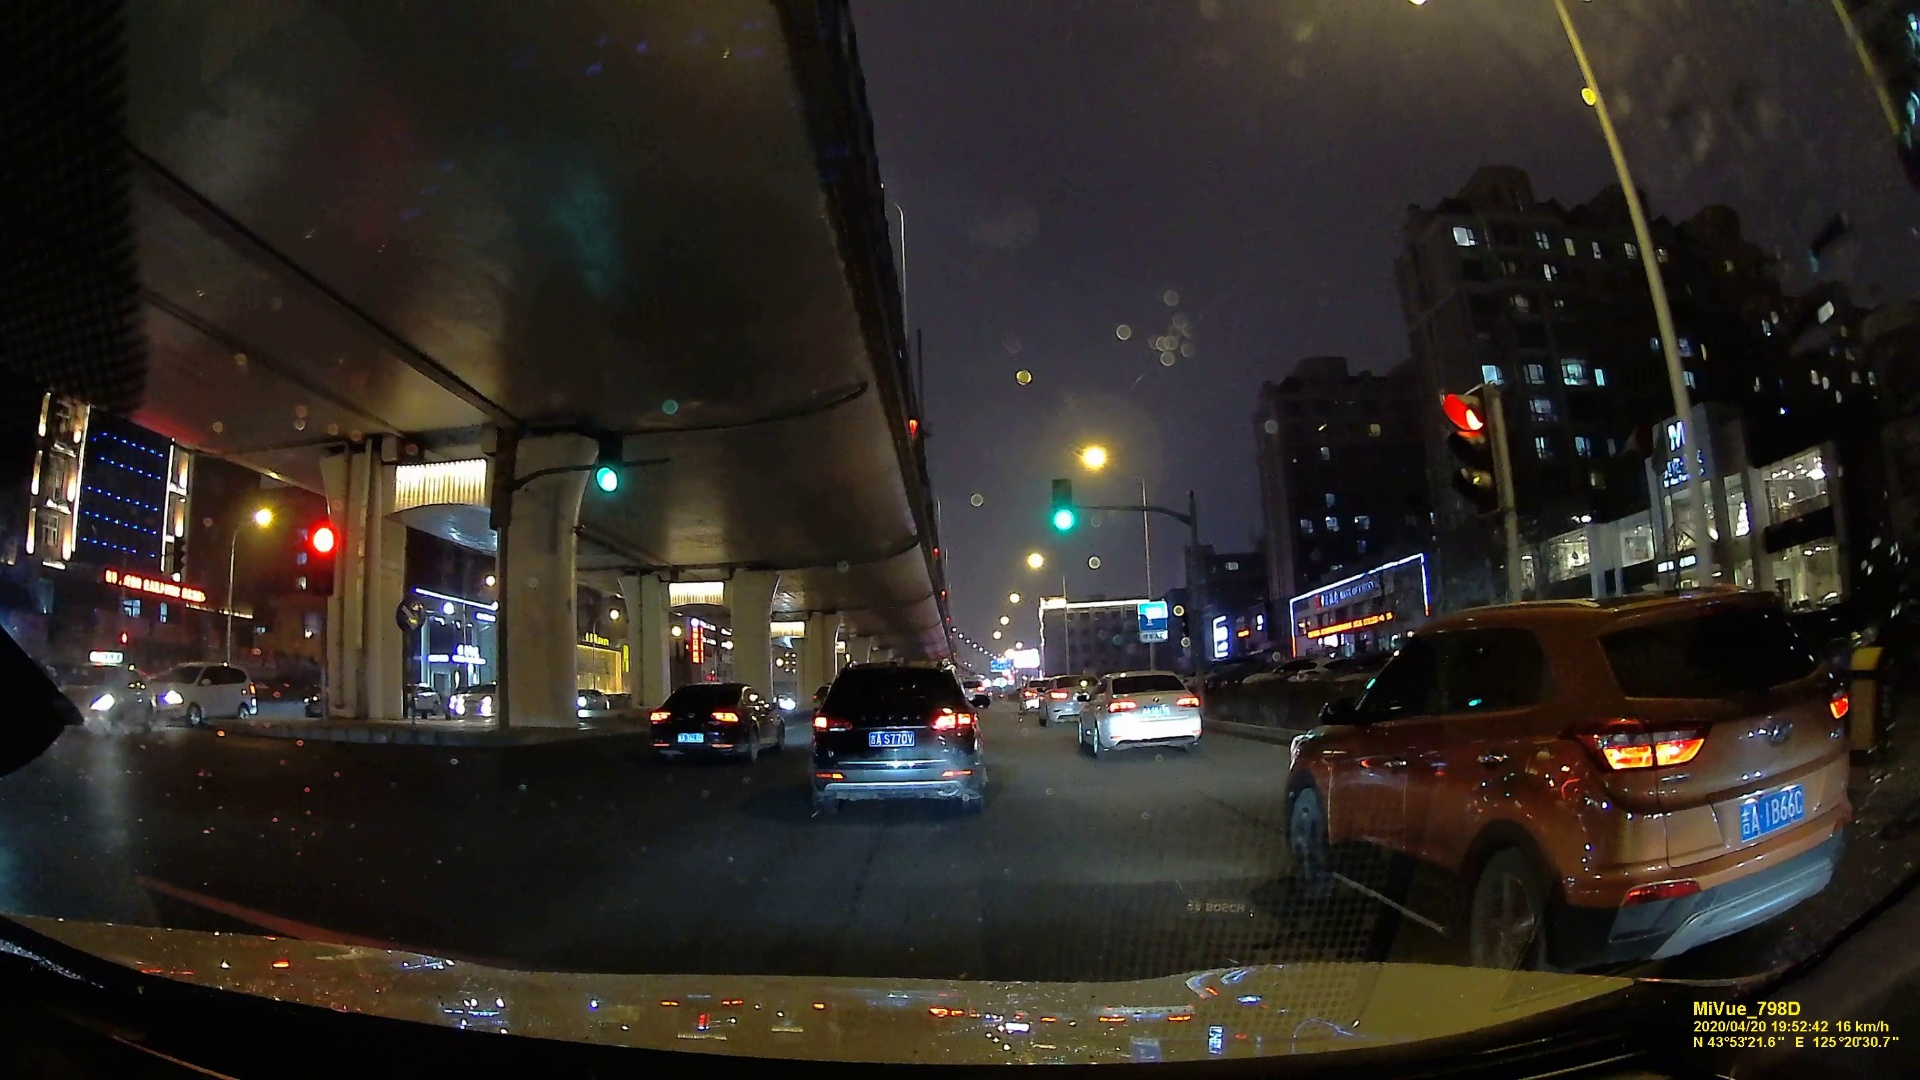traffic_sign: (1439, 380, 1498, 501), (306, 522, 338, 589), (593, 421, 622, 492), (1050, 475, 1077, 537), (1138, 605, 1170, 638)
vehicle: (1290, 589, 1873, 986), (802, 663, 990, 822), (644, 680, 789, 764), (1075, 667, 1204, 750), (144, 658, 251, 723), (62, 659, 158, 731), (969, 683, 992, 705)
